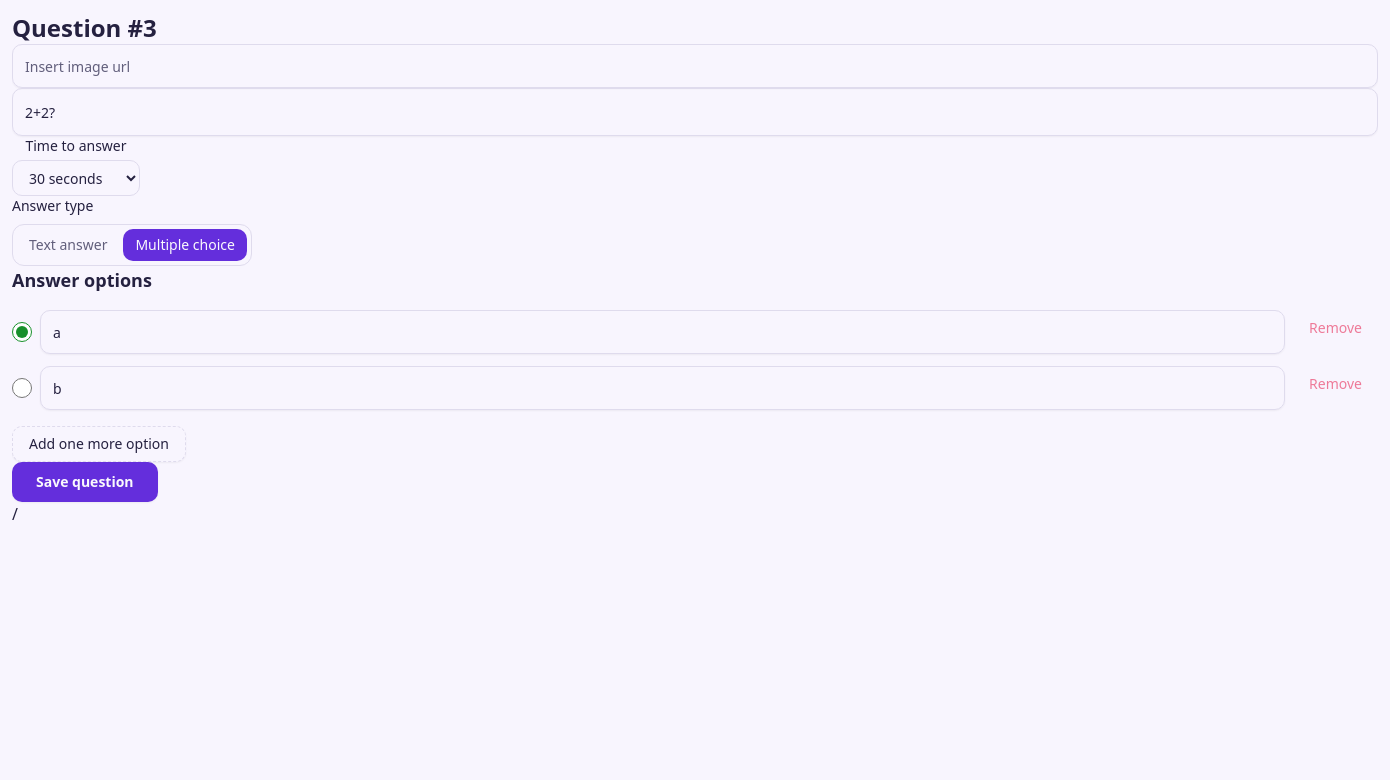
EditQuestionForm › keeps the option count within 2-4 (FR-99, BR-86)
Expected: the field with test id "question-text-input" holds "2+2?", [12,88,1378,136]
Expected: the button with test id "remove-option-button" is disabled, [1293,366,1378,402]
Click the button with test id "add-option-button" at point(99, 444), box [12,426,186,462]
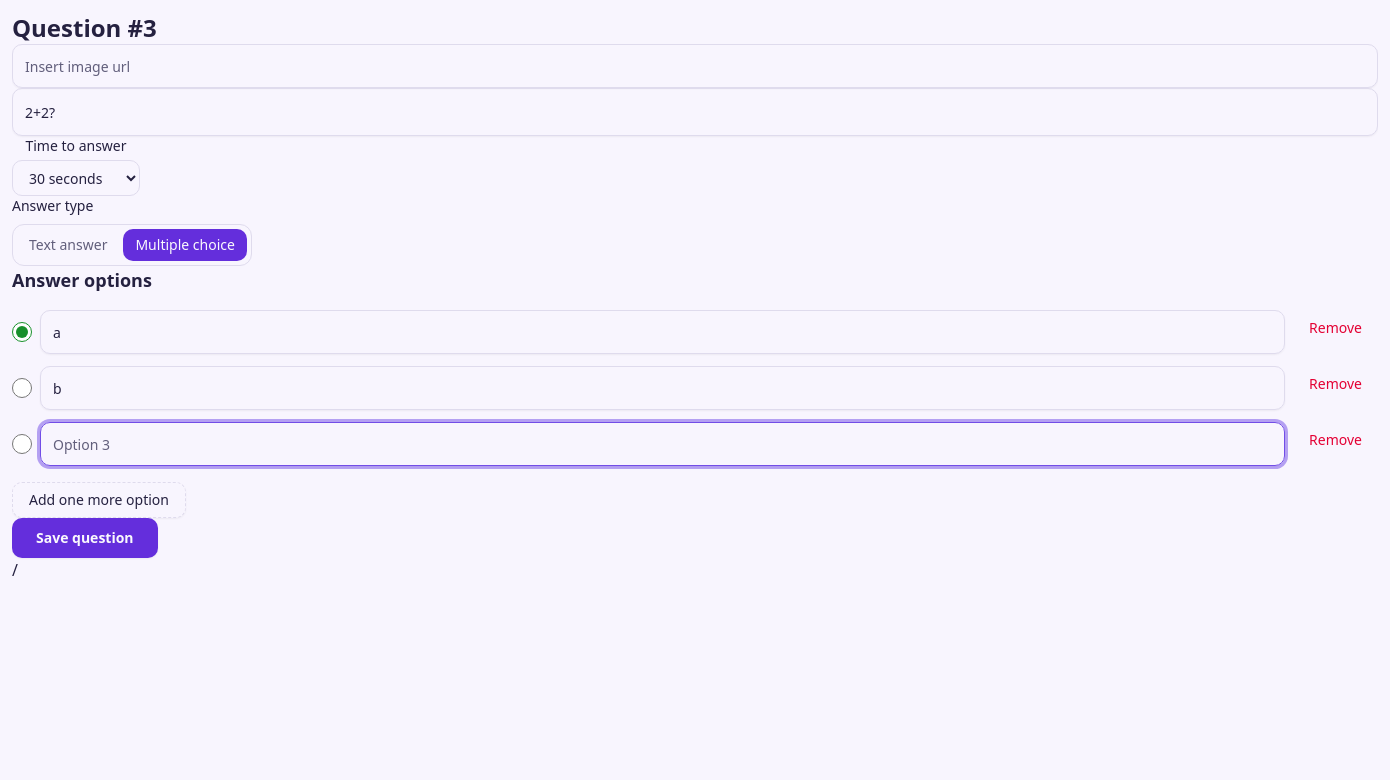
Click the button with test id "add-option-button" at point(99, 500), box [12,482,186,518]
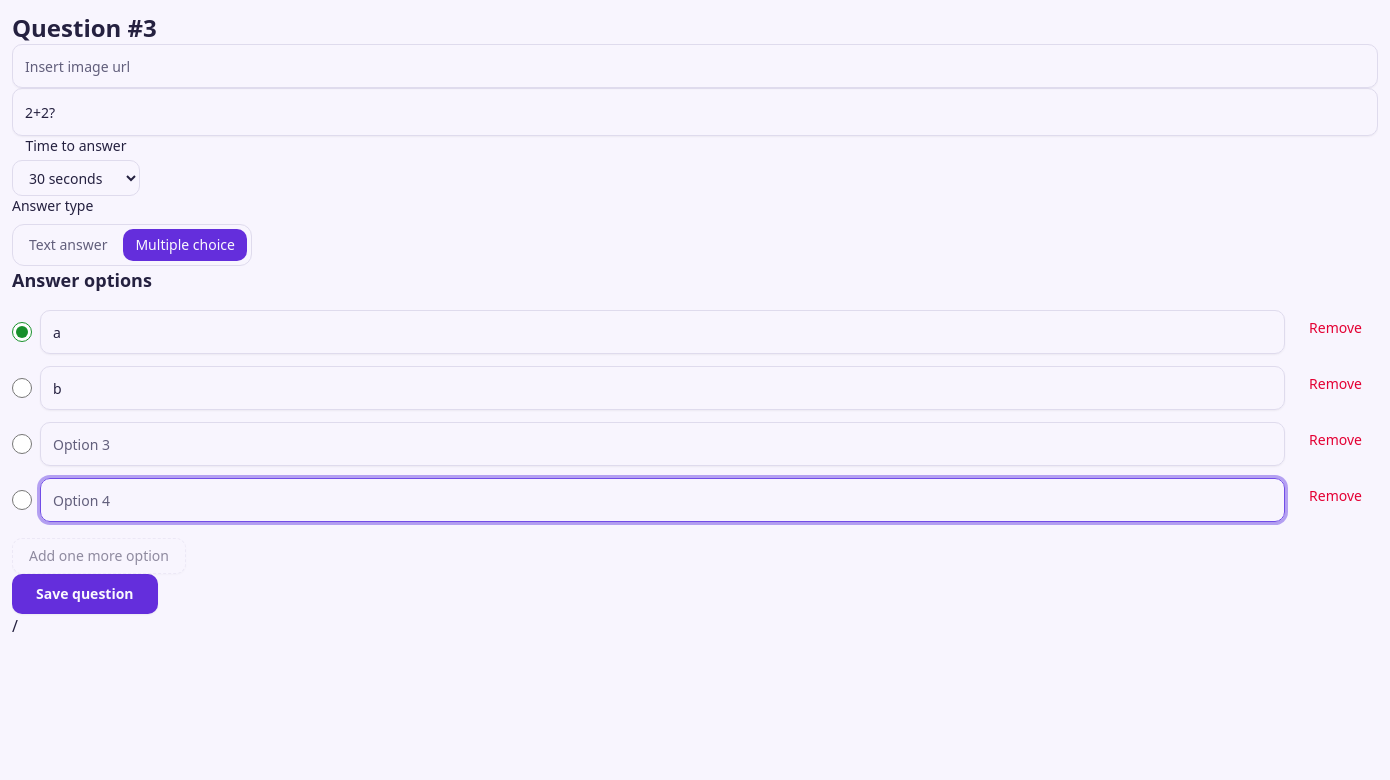
Expected: the button with test id "add-option-button" is disabled, [12,538,186,574]
Expected: the button with test id "remove-option-button" is enabled, [1293,478,1378,514]
